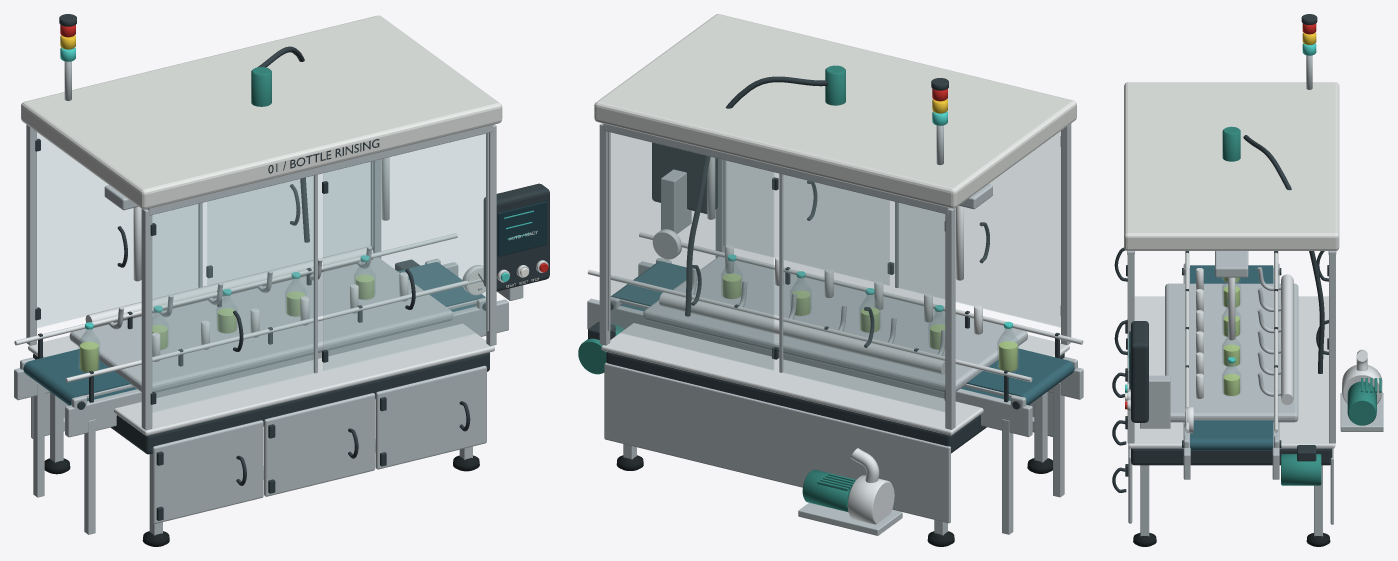
Rendered from wash.glb.
3 views of the same model, side by side, from view 1: azimuth 30°, elevation 25°; view 2: azimuth 150°, elevation 25°; view 3: azimuth 270°, elevation 25° (orthographic). The views are drawn at different scales.
Parts seen in each view (by area): view 1: Crown fascia, Polycarbonate safety door.001, Polycarbonate safety door, Drain tray, Polycarbonate safety door.002, Rinser top, Polycarbonate safety door.003, Rinser access door.001, Rinser access door, Rinser access door.002, Rinser chassis, Folded side channel (+21 smaller); view 2: Crown fascia, Polycarbonate safety door.003, Polycarbonate safety door.002, Rinser rear, Polycarbonate safety door, Drain tray, Polycarbonate safety door.001, Rinser top, Rinser chassis, Continuous hygienic PU belt.011, Folded side channel.001, Water header (+24 smaller); view 3: Crown fascia, Drain tray, Rinser top, Continuous hygienic PU belt.011, Rinser chassis, Rinse controls controller, Water header, Guard extrusion.003, Rinse controls mounting bracket, Conveyor gearmotor, TEFC motor, Air hose (+18 smaller).
Part boxes in pixels (x1,y1,x2,y2): Crown fascia: (21,15,502,209); Polycarbonate safety door.001: (323,134,486,370); Polycarbonate safety door: (152,176,313,412); Drain tray: (69,257,453,392); Polycarbonate safety door.002: (37,132,198,327); Rinser top: (28,323,494,435); Polycarbonate safety door.003: (207,162,370,284); Rinser access door.001: (264,393,375,496); Rinser access door: (152,420,263,523); Rinser access door.002: (375,365,486,469); Rinser chassis: (33,352,489,454); Folded side channel: (65,299,508,437); Crown fascia: (594,14,1076,208); Polycarbonate safety door.003: (610,132,773,370); Polycarbonate safety door.002: (783,175,944,411); Rinser rear: (604,362,950,523); Polycarbonate safety door: (898,131,1060,327); Drain tray: (643,256,1027,392); Polycarbonate safety door.001: (726,161,889,285); Rinser top: (601,323,1069,435); Rinser chassis: (606,352,1064,453); Continuous hygienic PU belt.011: (611,261,1074,405); Folded side channel.001: (587,298,1032,437); Water header: (659,292,945,374); Crown fascia: (1124,82,1339,250); Drain tray: (1165,283,1298,422); Rinser top: (1128,296,1335,448); Continuous hygienic PU belt.011: (1190,265,1273,450); Rinser chassis: (1131,448,1332,465); Rinse controls controller: (1131,321,1148,422); Water header: (1281,274,1293,405); Guard extrusion.003: (1329,251,1335,443); Rinse controls mounting bracket: (1140,375,1170,428); Conveyor gearmotor: (1281,454,1321,485); TEFC motor: (1347,381,1376,425); Air hose: (1243,135,1324,373).
Size of the model in its own units: 3.29 by 3.15 by 1.96.
